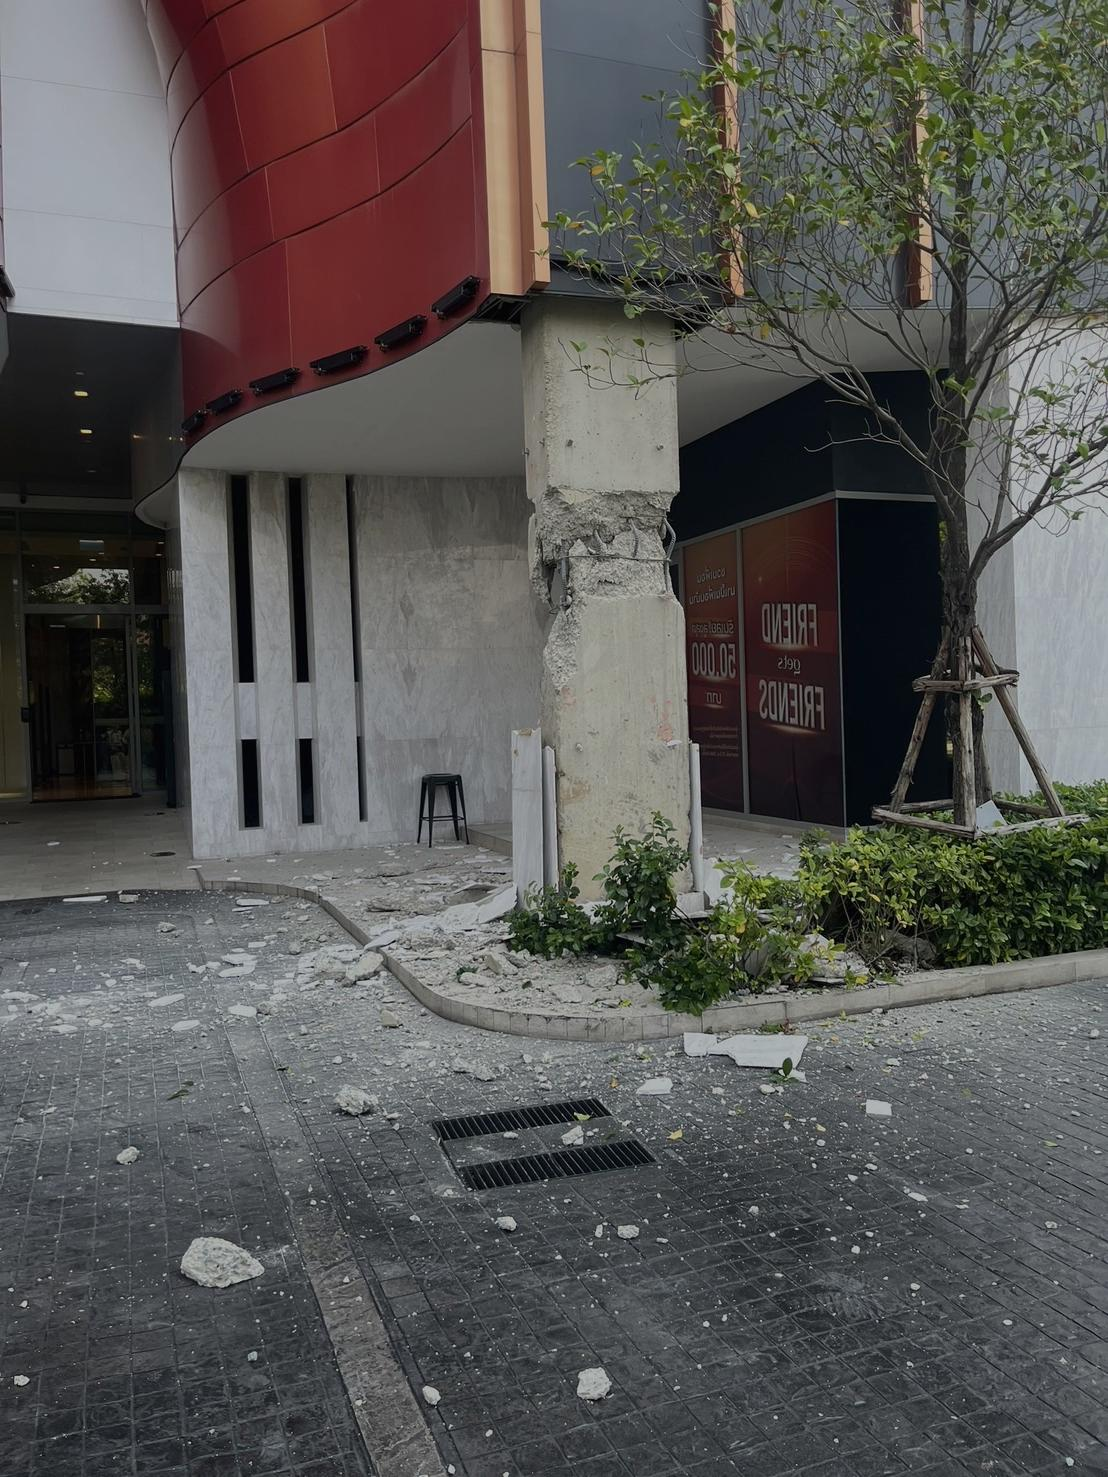High: (520, 427, 695, 750)
